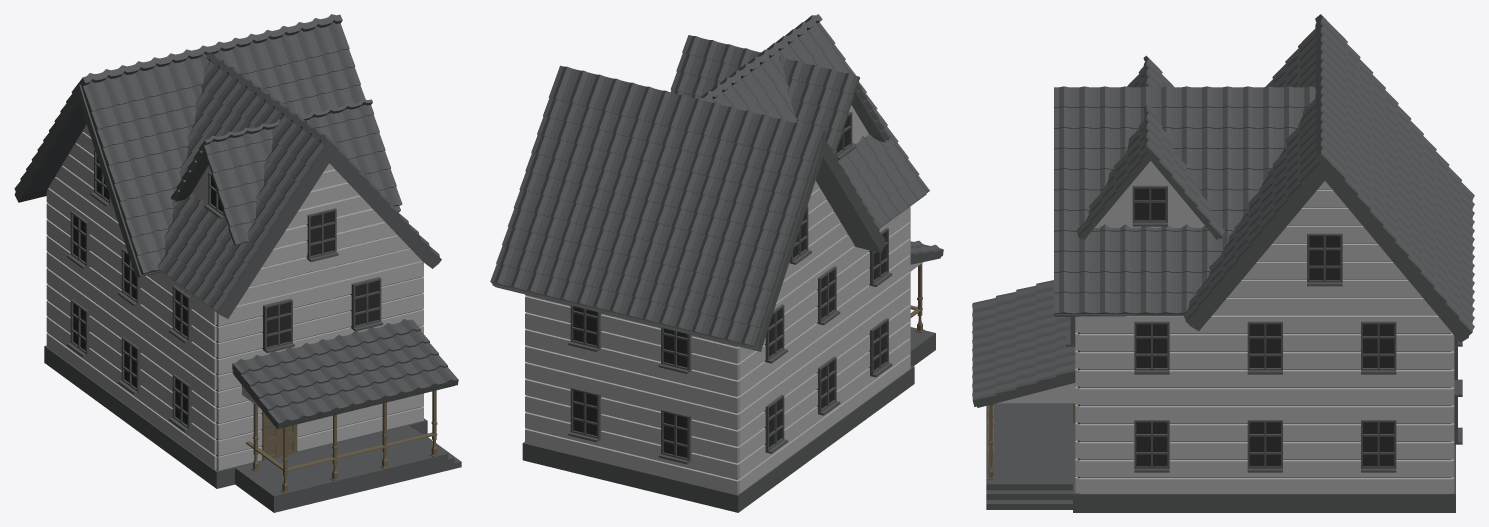
File: house-model.glb
3 renders of one model, left to right at view 1: azimuth 30°, elevation 25°; view 2: azimuth 150°, elevation 25°; view 3: azimuth 270°, elevation 25°, orthographic. The views are drawn at different scales.
Visible parts, largest first — view 1: House1; view 2: House1; view 3: House1.
Part boxes in pixels (left/top/right/bottom): House1: left=14, top=14, right=461, bottom=512; House1: left=490, top=14, right=943, bottom=512; House1: left=972, top=14, right=1474, bottom=512.
Bounding box in the file's own units: 2.56 × 3.18 × 3.87.
